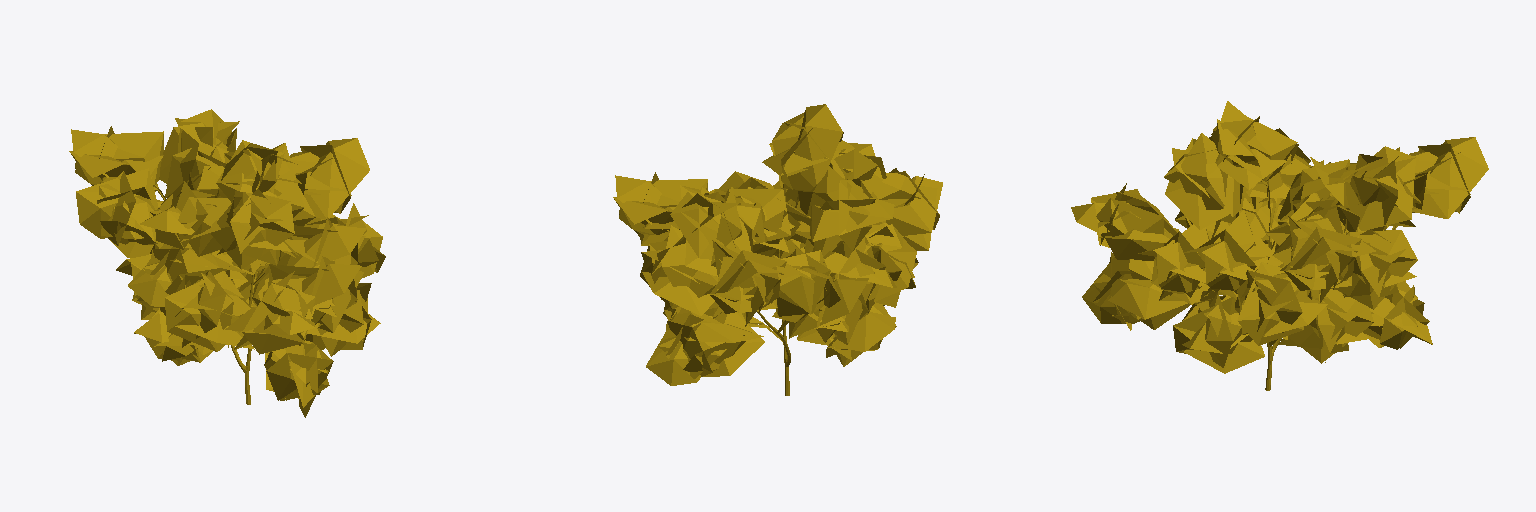
3 views of the same model, side by side, from view 1: azimuth 30°, elevation 25°; view 2: azimuth 150°, elevation 25°; view 3: azimuth 270°, elevation 25° (orthographic).
Parts seen in each view (by area): view 1: AM113_031_Tilia; view 2: AM113_031_Tilia; view 3: AM113_031_Tilia.
Boxes of the visible parts, box(x1,y1,x2,y2) form: AM113_031_Tilia: box(69, 109, 385, 417); AM113_031_Tilia: box(613, 104, 942, 395); AM113_031_Tilia: box(1071, 101, 1488, 390).
Bounding box in the file's own units: 2137 × 2253 × 3045.